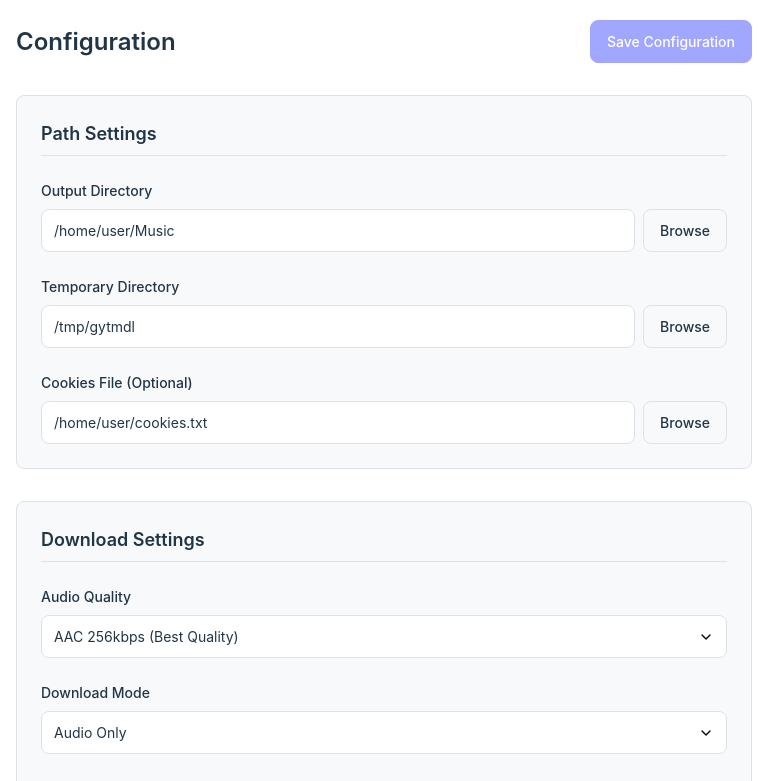
it: ConfigEditor Component › validates required fields
// Clear required field
Clear the field showing "/home/user/Music" at (338, 230), box top-left (41, 209), bottom-right (635, 252)
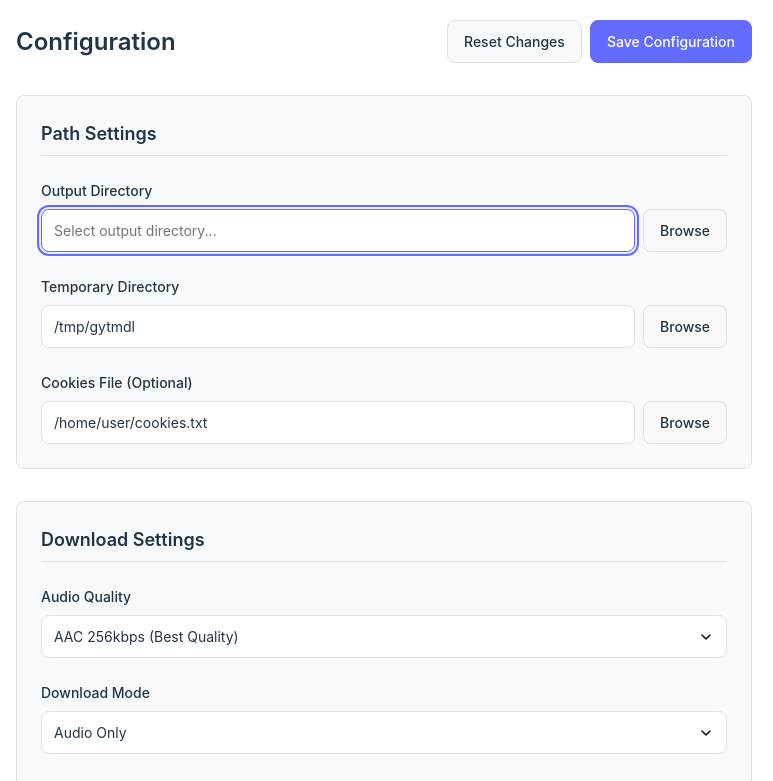
Click the button "Save Configuration" at (671, 42), box top-left (590, 20), bottom-right (752, 63)
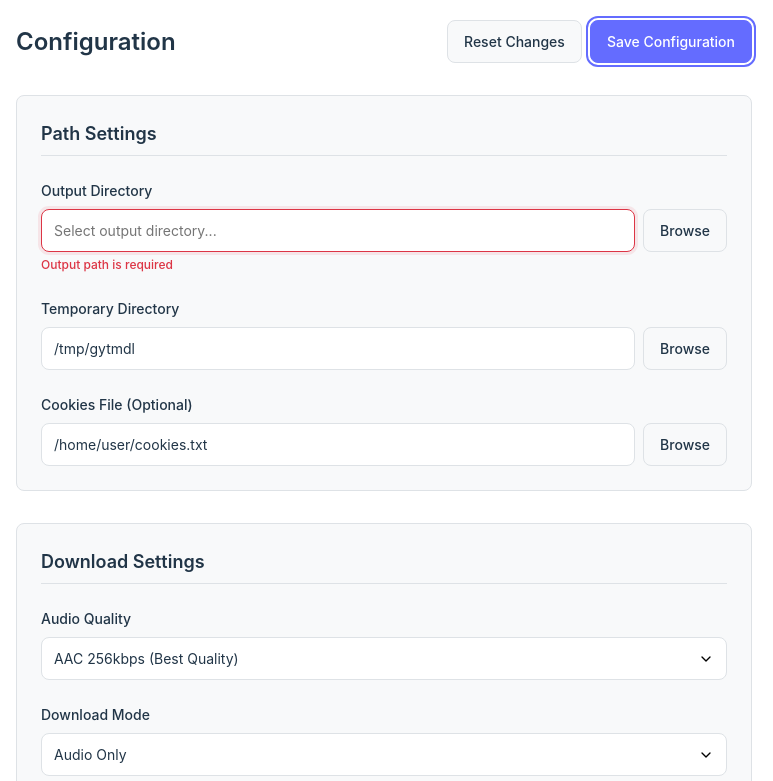
Now the text "Output path is required" is shown, box top-left (41, 257), bottom-right (173, 272)
